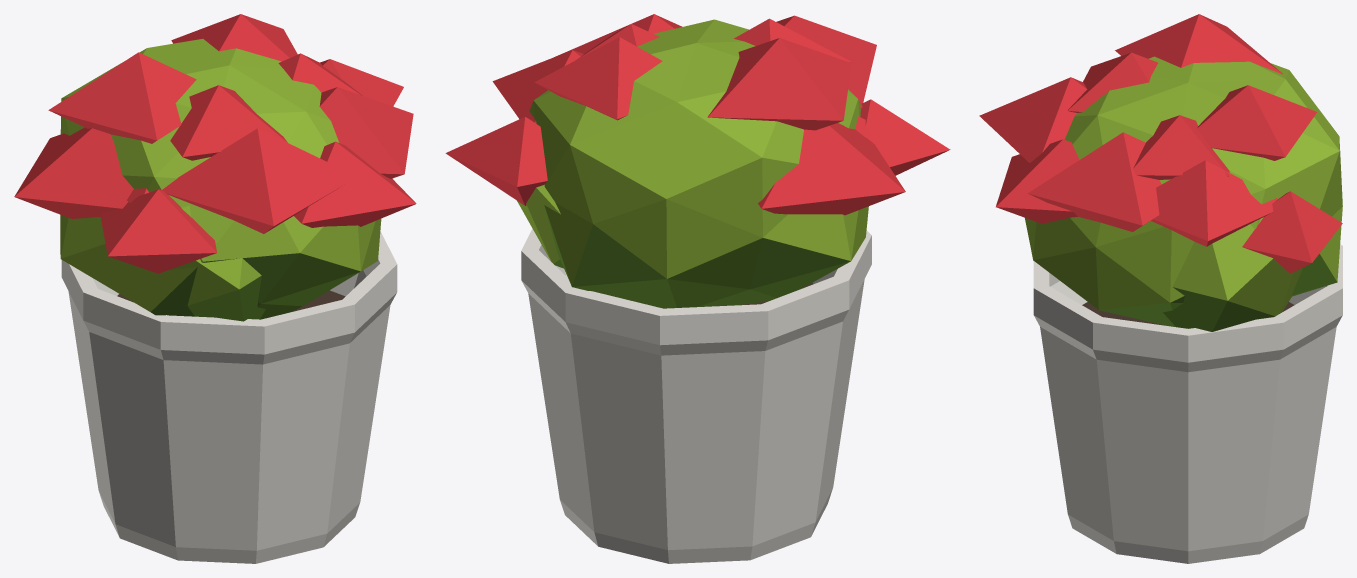
The model's file is SM_Street_Pot_RoundWhite_No4_FlowerRed_01.gltf.
3 views of the same model, side by side, from view 1: azimuth 30°, elevation 25°; view 2: azimuth 150°, elevation 25°; view 3: azimuth 270°, elevation 25° (orthographic). The views are drawn at different scales.
Visible parts, largest first — view 1: SM_Street_Pot_RoundWhite_No4_FlowerRed_01; view 2: SM_Street_Pot_RoundWhite_No4_FlowerRed_01; view 3: SM_Street_Pot_RoundWhite_No4_FlowerRed_01.
Boxes of the visible parts, bbox=[...] form: SM_Street_Pot_RoundWhite_No4_FlowerRed_01: bbox=[14, 14, 416, 563]; SM_Street_Pot_RoundWhite_No4_FlowerRed_01: bbox=[445, 14, 950, 563]; SM_Street_Pot_RoundWhite_No4_FlowerRed_01: bbox=[979, 14, 1342, 563].
Bounding box in the file's own units: 0.1613 × 0.1868 × 0.1343.
Materials: 1 (1 with a texture image).
